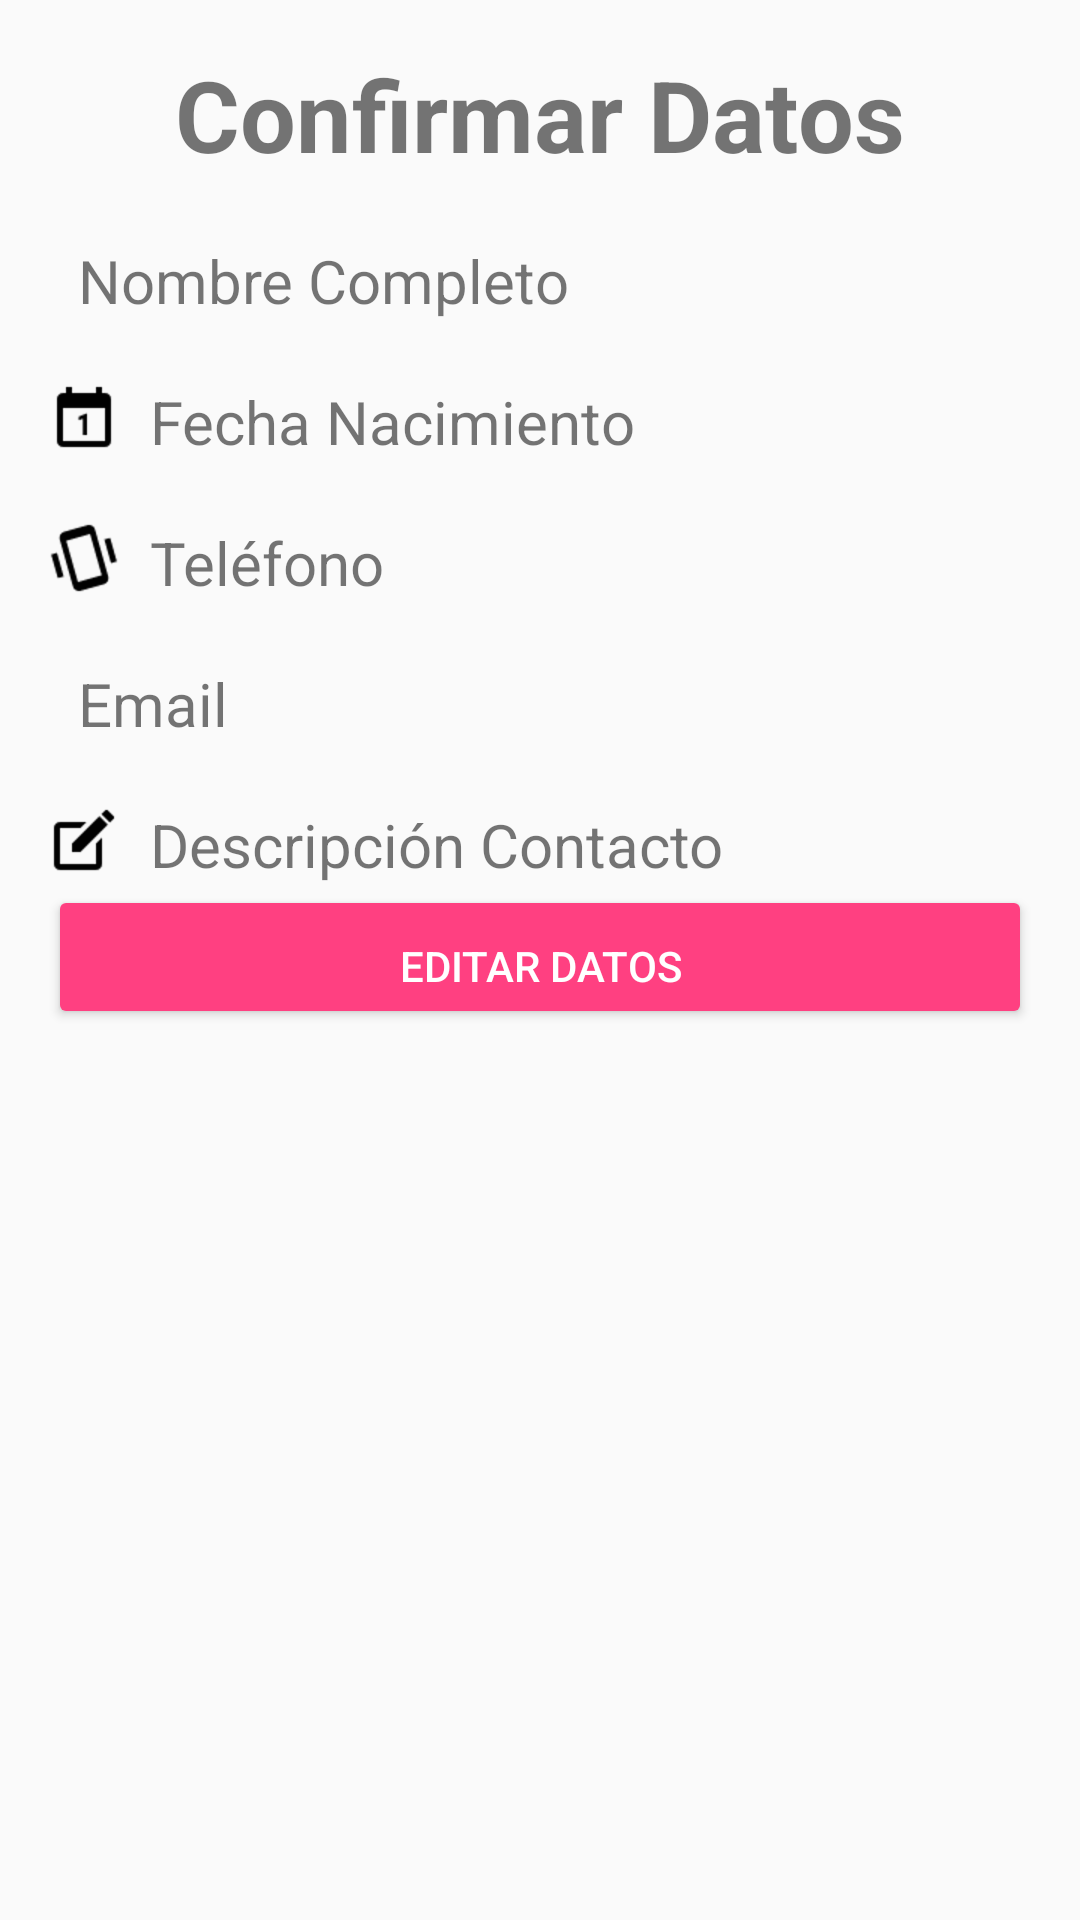

Screen size 1080×1920. Icon name, then its center in pixels as (x=x, y=y):
calendar: (x=84, y=417)
descripcion: (x=84, y=840)
telefono: (x=84, y=558)
